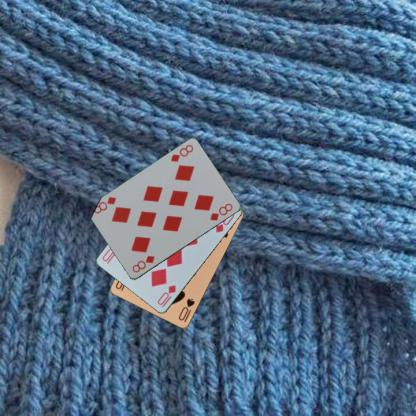10d: (155, 283, 177, 309)
10s: (176, 296, 196, 323)
8d: (168, 142, 195, 164), (129, 253, 156, 274)
